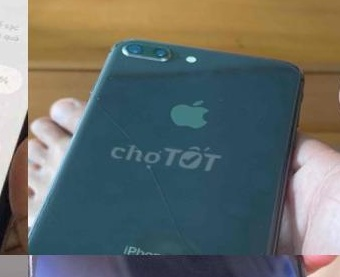physical_damage: (52, 84, 283, 255)
scratch: (105, 29, 179, 66)
